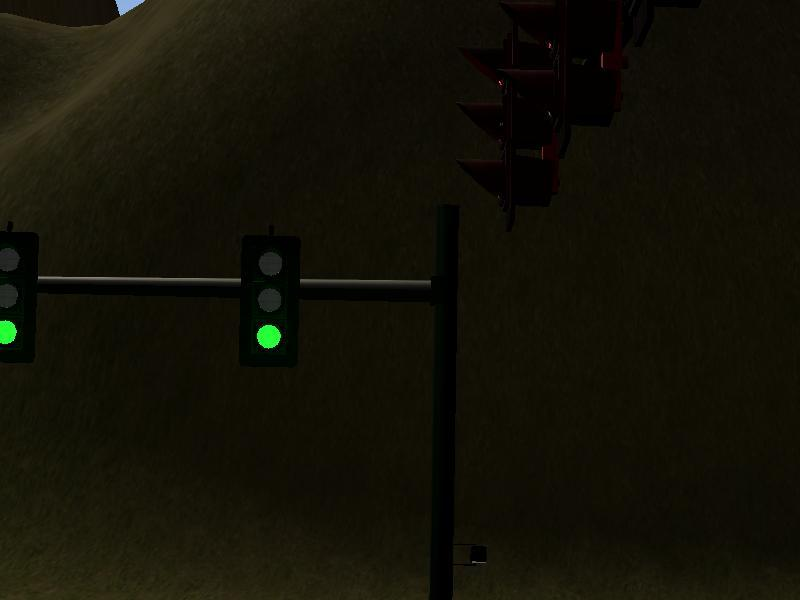Green: (239, 232, 299, 366), (1, 235, 33, 359)
